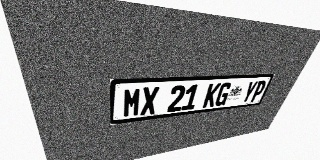1: (181, 84, 200, 111)
2: (167, 85, 186, 112)
G: (214, 82, 233, 106)
K: (202, 83, 221, 108)
M: (123, 87, 142, 118)
P: (249, 80, 268, 102)
X: (140, 86, 159, 116)
Y: (240, 81, 259, 103)
